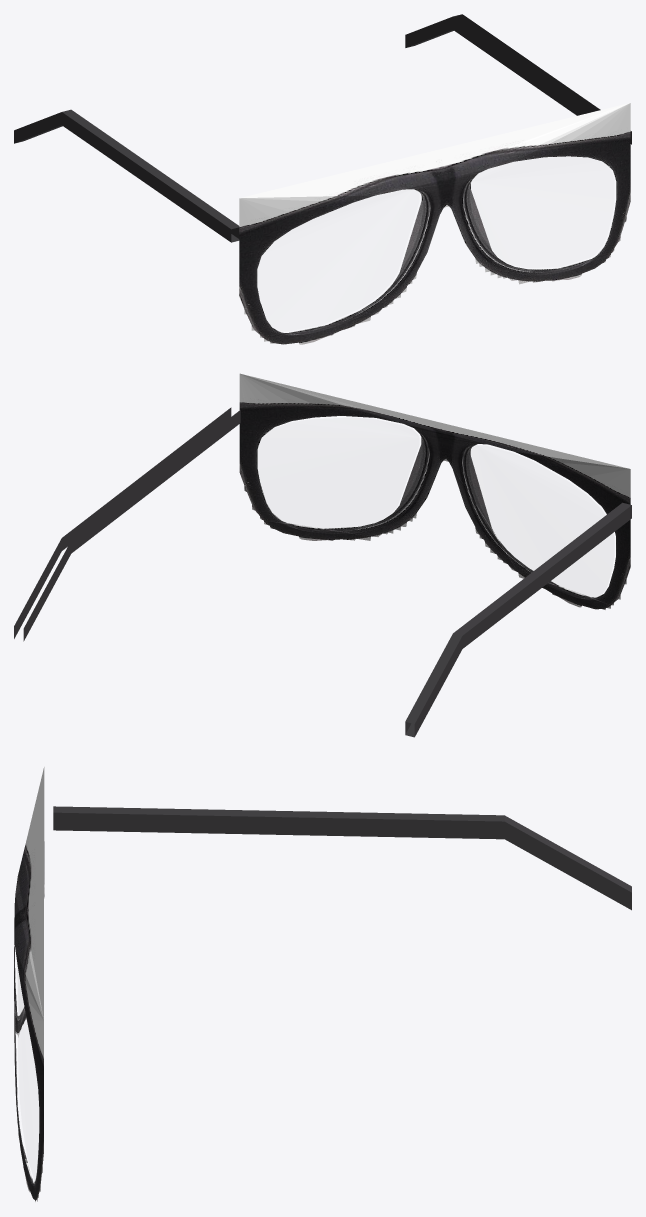
The model's file is gothamstyle-236_matte-black.glb.
3 views of the same model, one above another, from view 1: azimuth 30°, elevation 25°; view 2: azimuth 150°, elevation 25°; view 3: azimuth 270°, elevation 25° (orthographic). The views are drawn at different scales.
Parts seen in each view (by area): view 1: frame_front, temple_viewer_left, temple_viewer_right; view 2: frame_front, temple_viewer_left, temple_viewer_right; view 3: temple_viewer_left, frame_front.
Boxes of the visible parts, x1=… form: frame_front: x1=239, y1=103, x2=630, y2=344; temple_viewer_left: x1=14, y1=109, x2=239, y2=242; temple_viewer_right: x1=405, y1=14, x2=631, y2=144; frame_front: x1=239, y1=373, x2=630, y2=609; temple_viewer_left: x1=405, y1=502, x2=631, y2=737; temple_viewer_right: x1=14, y1=407, x2=240, y2=641; temple_viewer_left: x1=53, y1=806, x2=631, y2=910; frame_front: x1=14, y1=767, x2=44, y2=1201.
Size of the model in its own units: 0.1257 by 0.0469 by 0.126.
3 materials, 2 textured.
